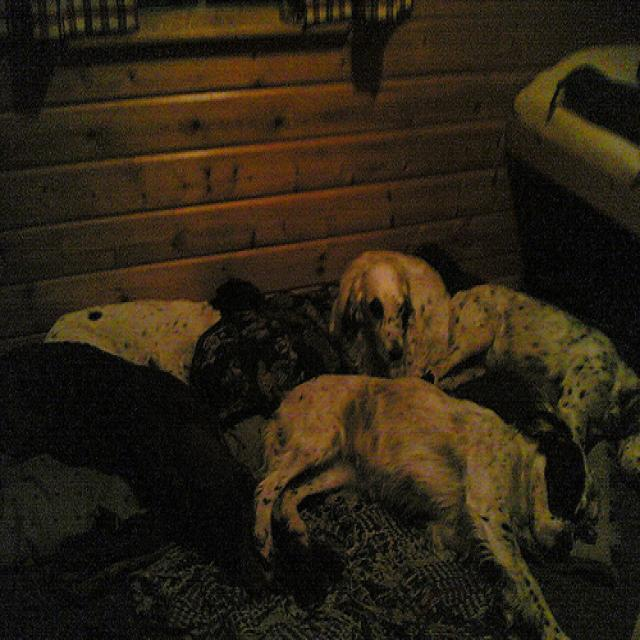Dog: (225, 359, 640, 634), (36, 237, 344, 485), (354, 256, 630, 506)
